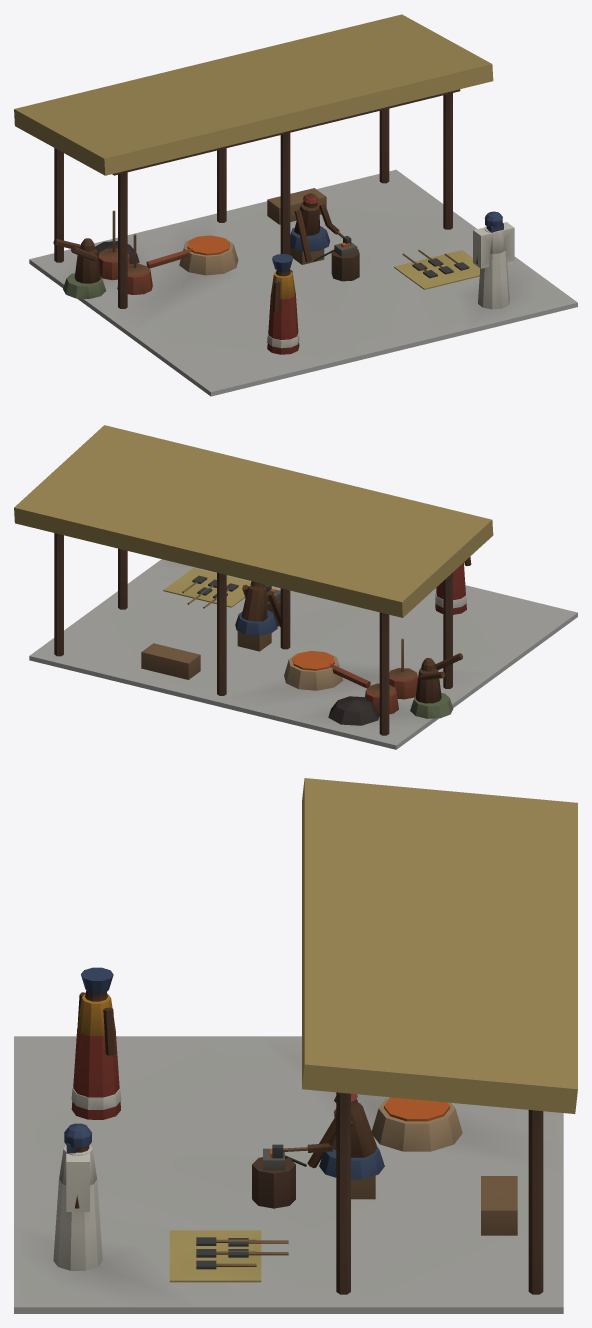
Rendered from forge.glb.
3 renders of one model, top to bottom at view 1: azimuth 30°, elevation 25°; view 2: azimuth 150°, elevation 25°; view 3: azimuth 270°, elevation 25°, orthographic. The views are drawn at different scales.
Visible parts, largest first — view 1: base; view 2: base; view 3: base.
Part boxes in pixels (x1,y1,x2,y2): base: [14, 14, 577, 396]; base: [14, 425, 577, 749]; base: [14, 778, 577, 1313].
Size of the model in its own units: 7.43 by 3.11 by 6.16.
